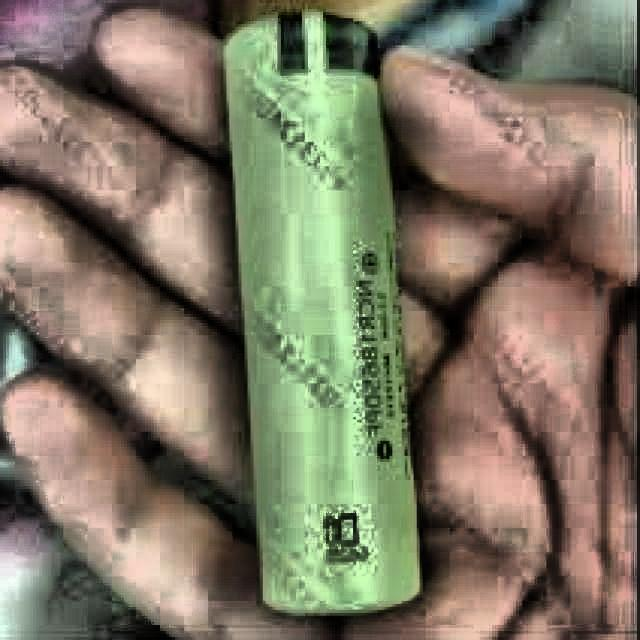battery: (226, 12, 420, 613)
